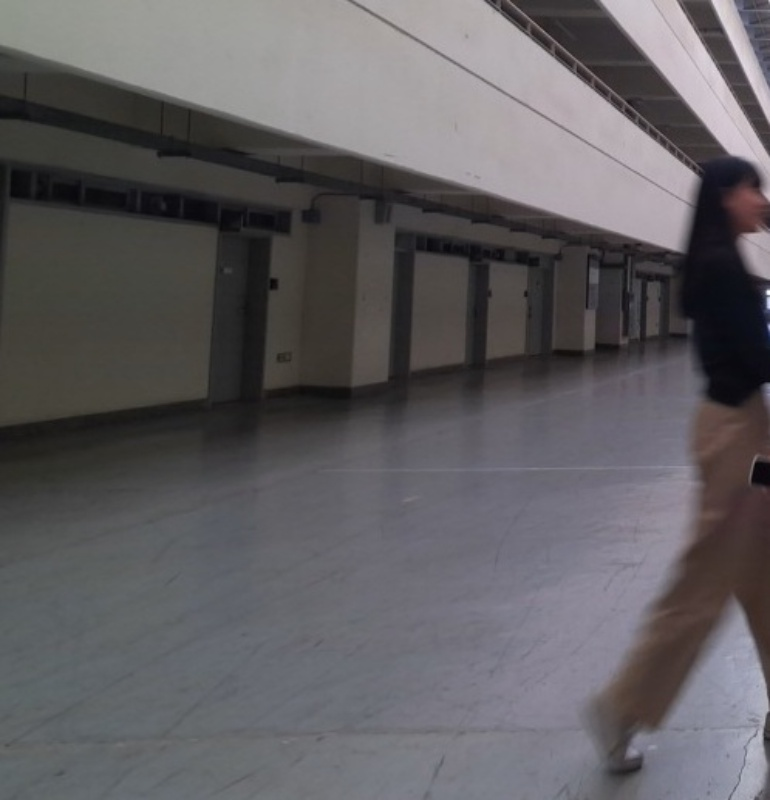person: (576, 157, 770, 776)
